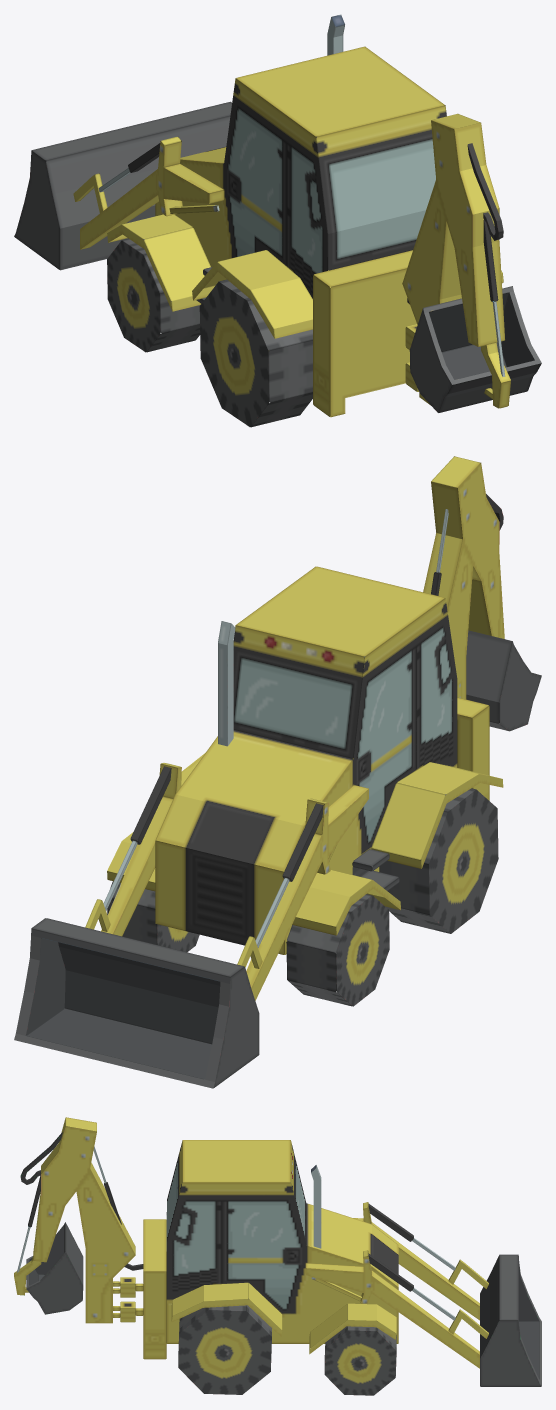
File: Backhoe.fbx
3 renders of one model, top to bottom at view 1: azimuth 30°, elevation 25°; view 2: azimuth 150°, elevation 25°; view 3: azimuth 270°, elevation 25°, orthographic. The views are drawn at different scales.
Visible parts, largest first — view 1: BackhoeBody, BackhoeScoops, BackhoeWheels, BackhoeDetails; view 2: BackhoeBody, BackhoeScoops, BackhoeWheels, BackhoeDetails; view 3: BackhoeBody, BackhoeScoops, BackhoeWheels, BackhoeDetails.
Part boxes in pixels (x1,y1,x2,y2): BackhoeBody: (155, 46, 505, 417); BackhoeScoops: (14, 101, 541, 412); BackhoeWheels: (107, 214, 503, 427); BackhoeDetails: (98, 14, 505, 391); BackhoeBody: (155, 456, 504, 954); BackhoeScoops: (14, 630, 541, 1088); BackhoeWheels: (107, 762, 503, 1006); BackhoeDetails: (103, 494, 503, 947); BackhoeBody: (33, 1117, 398, 1359); BackhoeScoops: (14, 1202, 541, 1386); BackhoeWheels: (171, 1282, 396, 1395); BackhoeDetails: (17, 1132, 455, 1322).
Bounding box in the file's own units: 288 × 421 × 853.
Materials: 4 (4 with a texture image).
